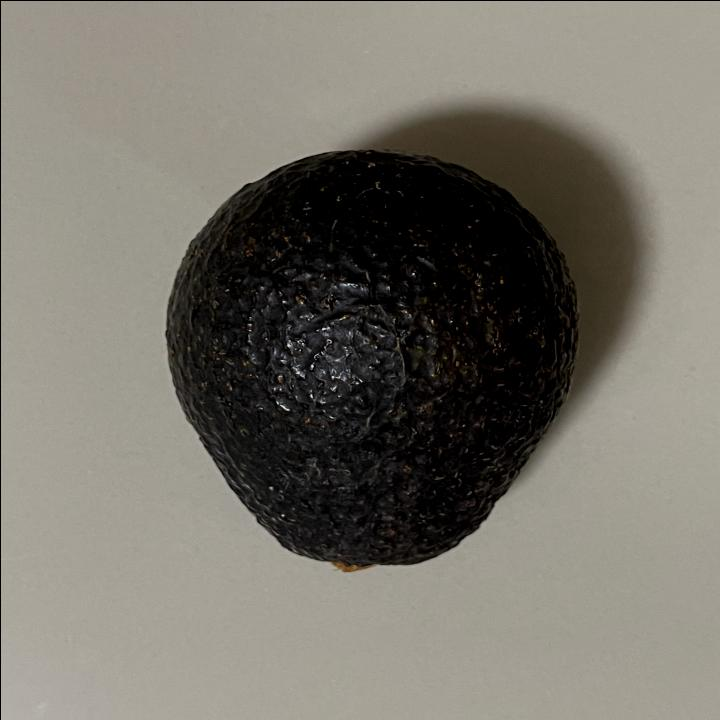Level2: (155, 140, 589, 580)
